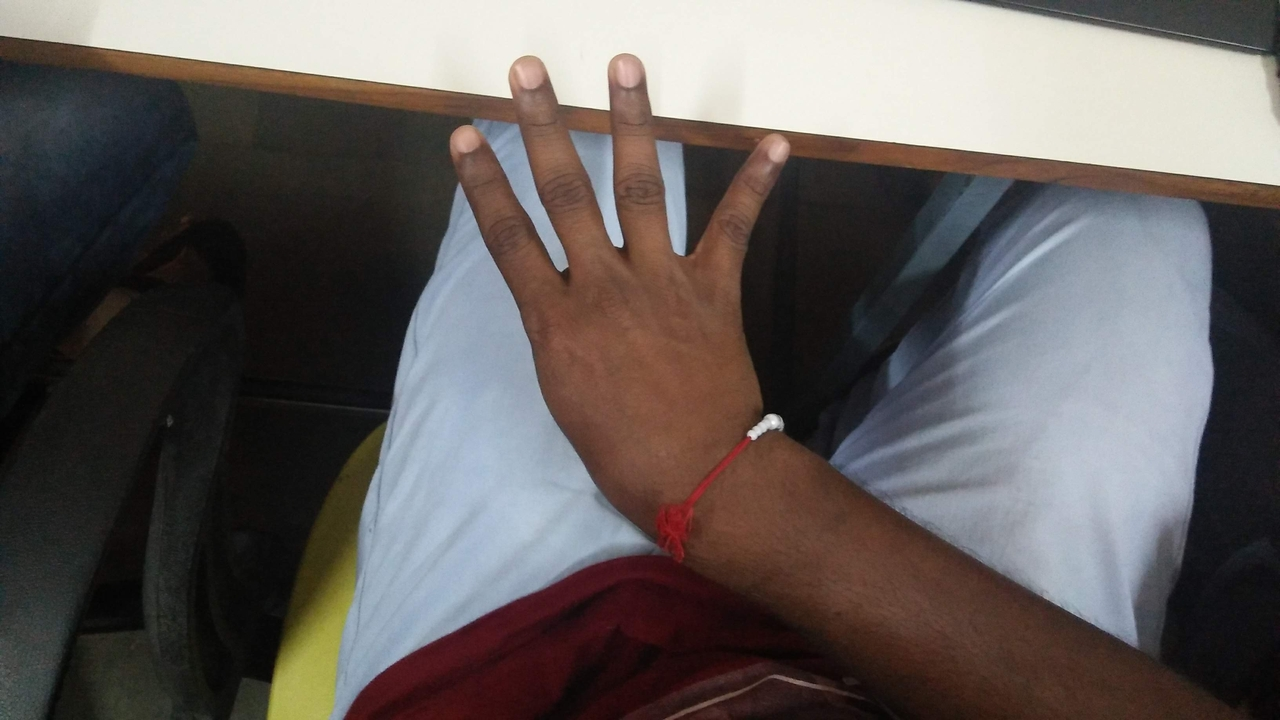fingertip: (436, 114, 500, 172), (740, 128, 798, 174), (504, 52, 554, 96), (602, 50, 652, 92)
